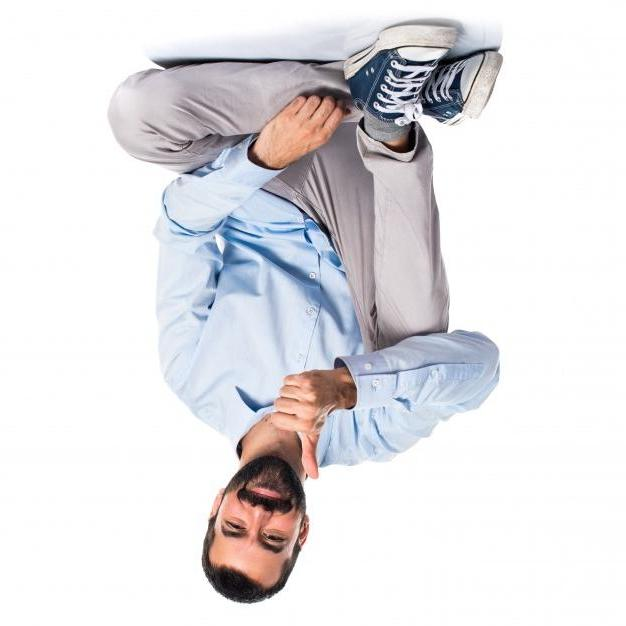thumbsdown: (270, 374, 323, 480)
